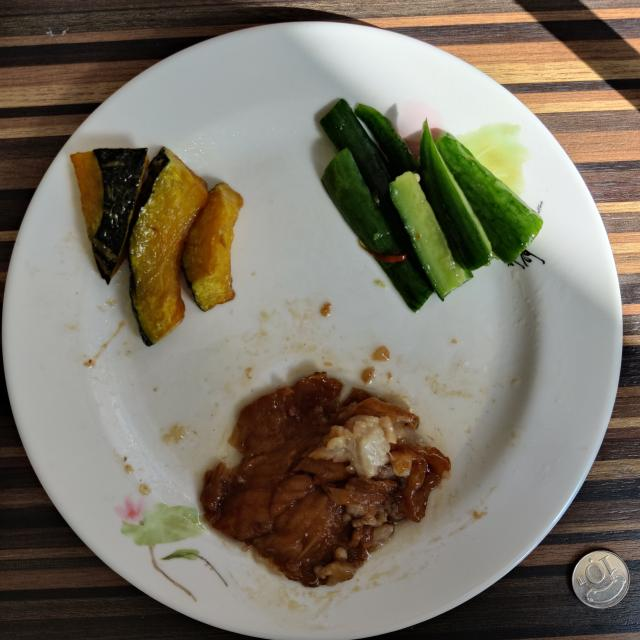Kabayaki sea bream fillet: (200, 372, 450, 586)
coin: (571, 550, 630, 609)
cucumber: (320, 100, 542, 310)
pumpkin: (71, 148, 242, 345)
